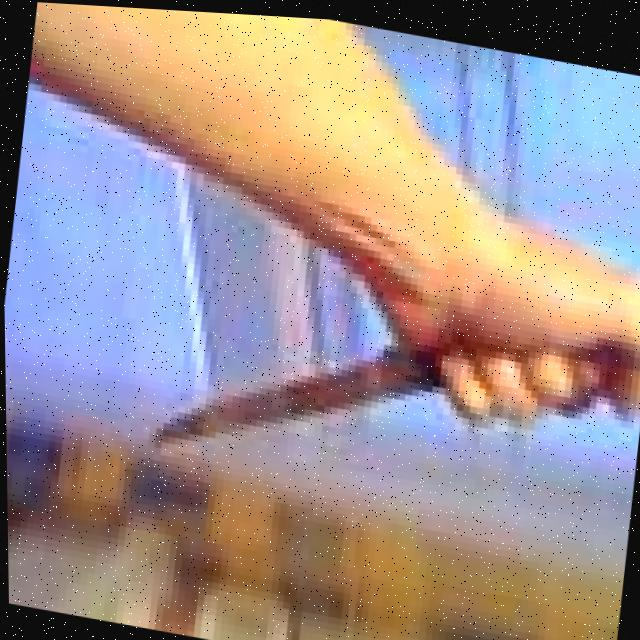knife: (119, 287, 441, 513)
